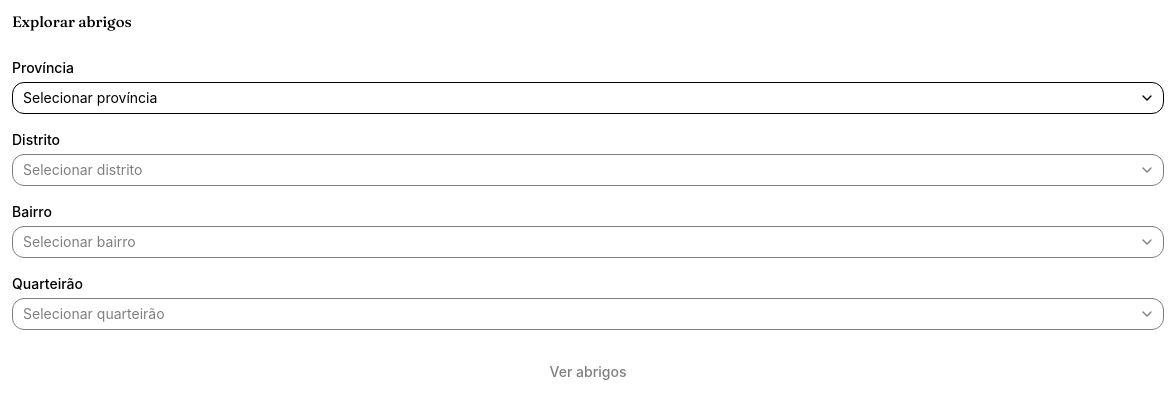
Scenario: GeographicPicker › populates bairro options when a distrito is selected
Click the dropdown labelled "província": (90, 97) x1=12 y1=82 x2=1164 y2=114
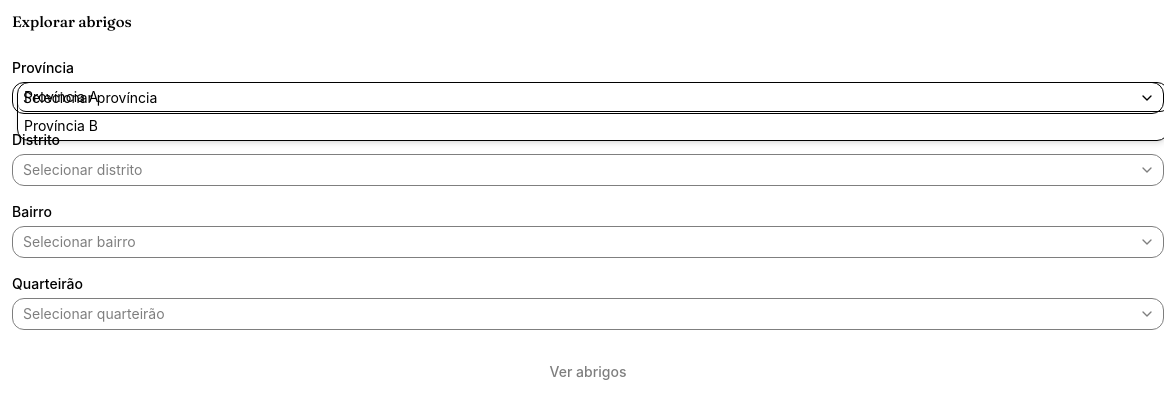
Click the option "Província A": (61, 96) x1=18 y1=82 x2=1164 y2=112
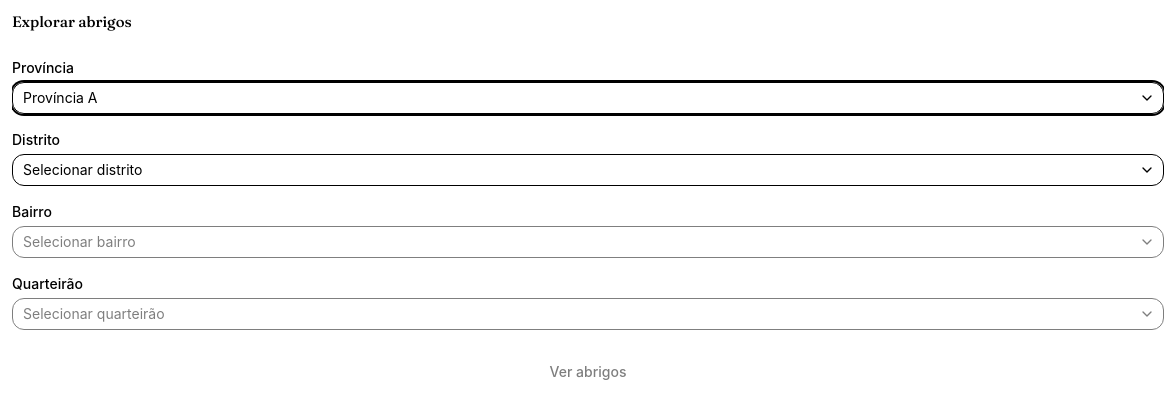
Click the dropdown labelled "distrito": (83, 169) x1=12 y1=154 x2=1164 y2=186
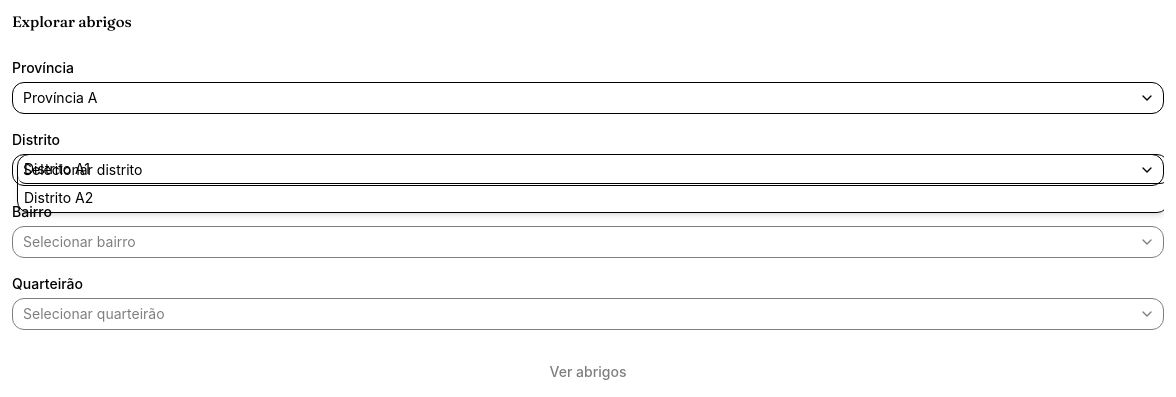
Click the option "Distrito A1": (57, 168) x1=18 y1=154 x2=1164 y2=184
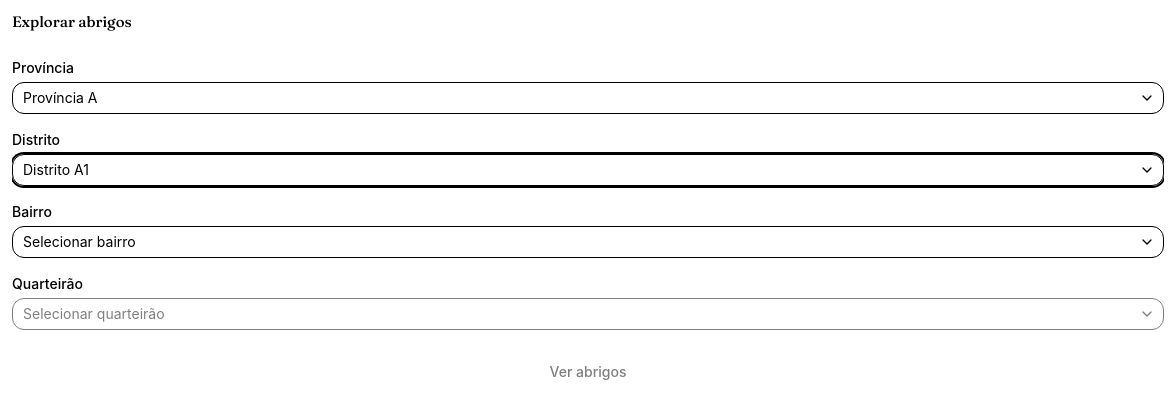
Click the dropdown labelled "bairro": (79, 241) x1=12 y1=226 x2=1164 y2=258
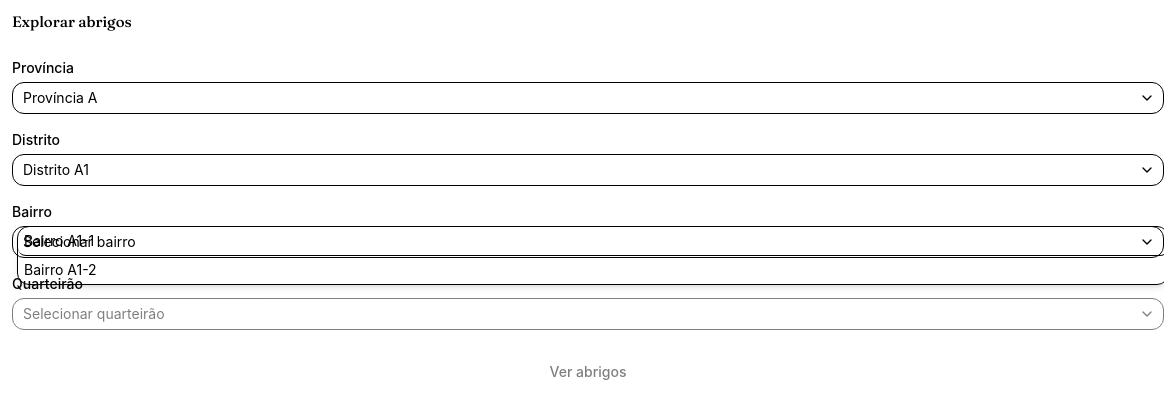
expect the text "Bairro A1-1" is shown: met, box x1=24 y1=232 x2=94 y2=248
expect the text "Bairro A1-2" is shown: met, box x1=24 y1=260 x2=97 y2=278
